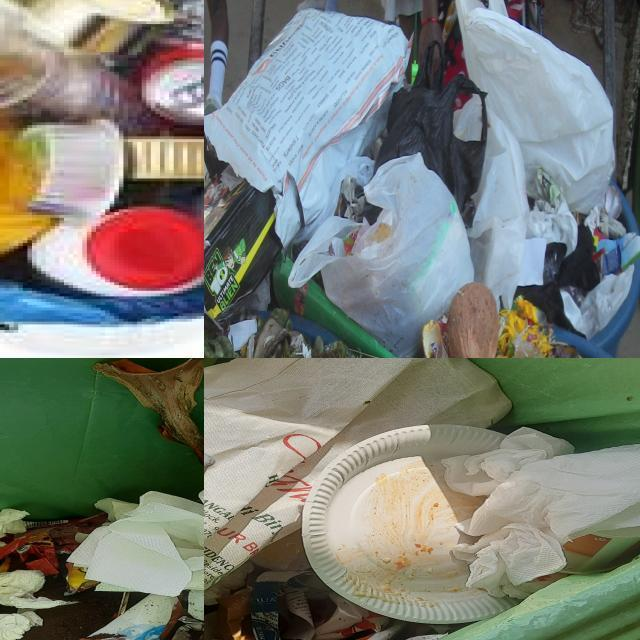Garbage: (204, 0, 640, 358), (204, 358, 640, 640), (0, 491, 204, 640)
Plastic: (303, 424, 518, 623)
Plastic_Bag: (204, 11, 410, 247), (289, 155, 474, 358), (455, 0, 615, 212), (375, 41, 488, 228), (468, 111, 529, 307), (77, 595, 179, 640), (526, 198, 578, 255), (250, 530, 310, 573), (593, 233, 640, 277), (520, 236, 546, 285)
Plastic_wraper: (280, 573, 389, 640), (217, 582, 280, 640), (17, 543, 60, 575), (63, 563, 99, 595)
